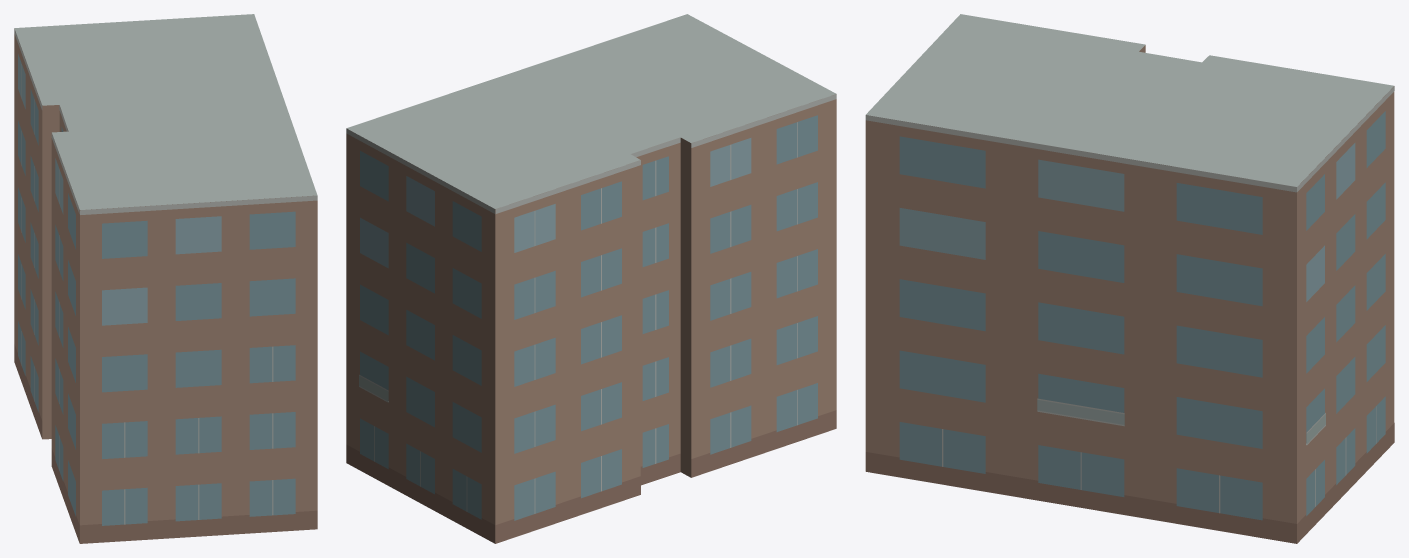
File: survey-upis-32664431.glb
3 views of the same model, side by side, from view 1: azimuth 30°, elevation 25°; view 2: azimuth 150°, elevation 25°; view 3: azimuth 270°, elevation 25° (orthographic). The views are drawn at different scales.
Parts seen in each view (by area): view 1: survey-upis-32664431.tmp; view 2: survey-upis-32664431.tmp; view 3: survey-upis-32664431.tmp.
Boxes of the visible parts, x1,y1,x2,y2 form: survey-upis-32664431.tmp: (14,14,317,543); survey-upis-32664431.tmp: (346,14,836,543); survey-upis-32664431.tmp: (865,14,1394,543).
Size of the model in its own units: 16.81 by 16.15 by 21.7.
